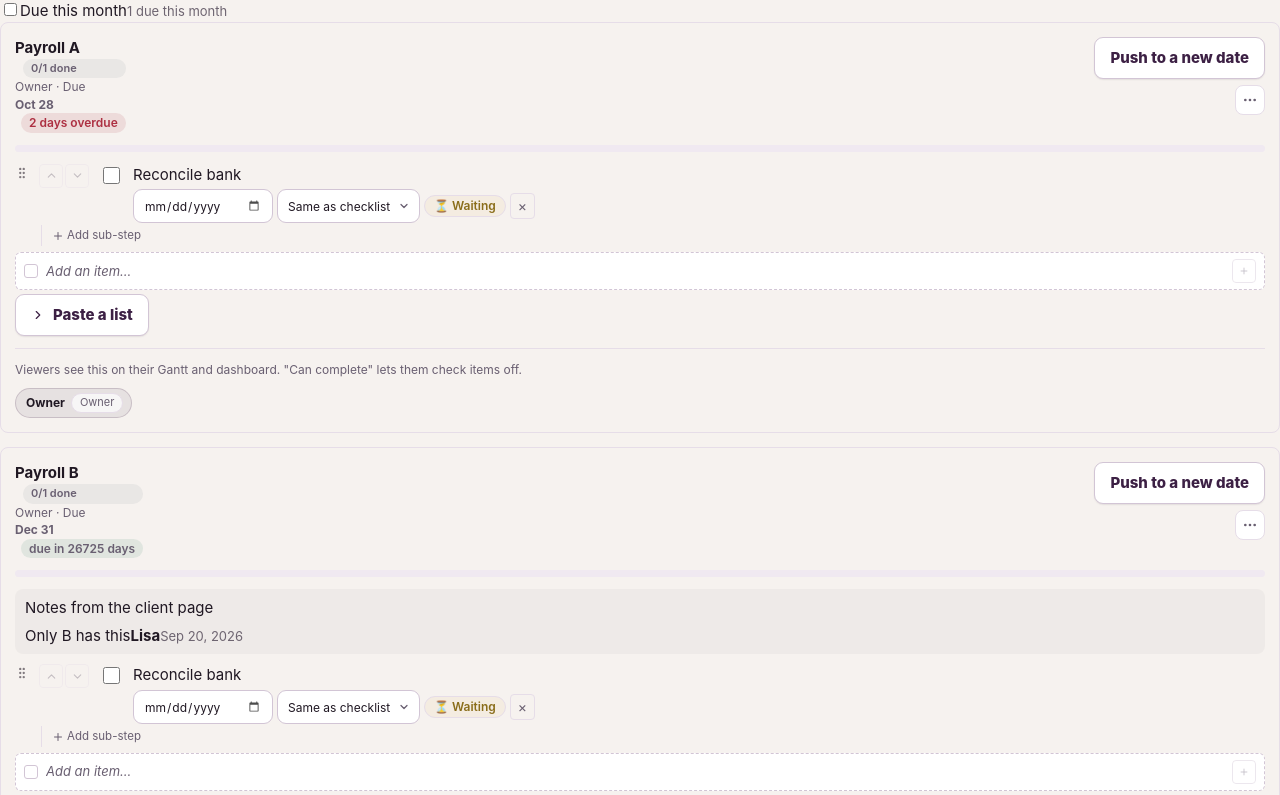
Test: a client page with many checklist cards › does not ask again when the Due this month filter narrows the cards - the set it keys on is every checklist
The image size is (1280, 795).
Expected: the text "Only B has this" is shown, 25,626 -> 130,645
Click the checkbox labelled "Due this month" at (10, 10), box 4,3 -> 17,16
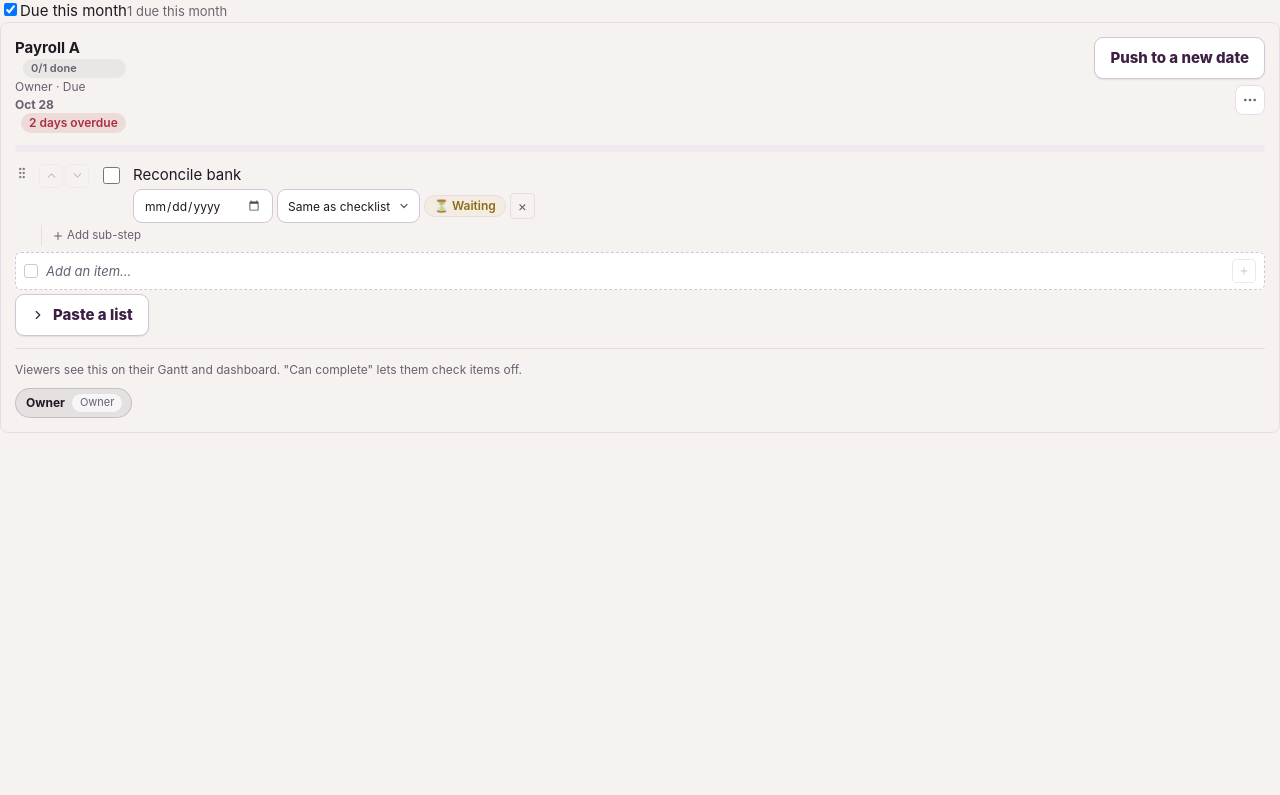
Expected: the text "Payroll A" is shown, 15,38 -> 80,57
Expected: the text "Payroll B" is gone
